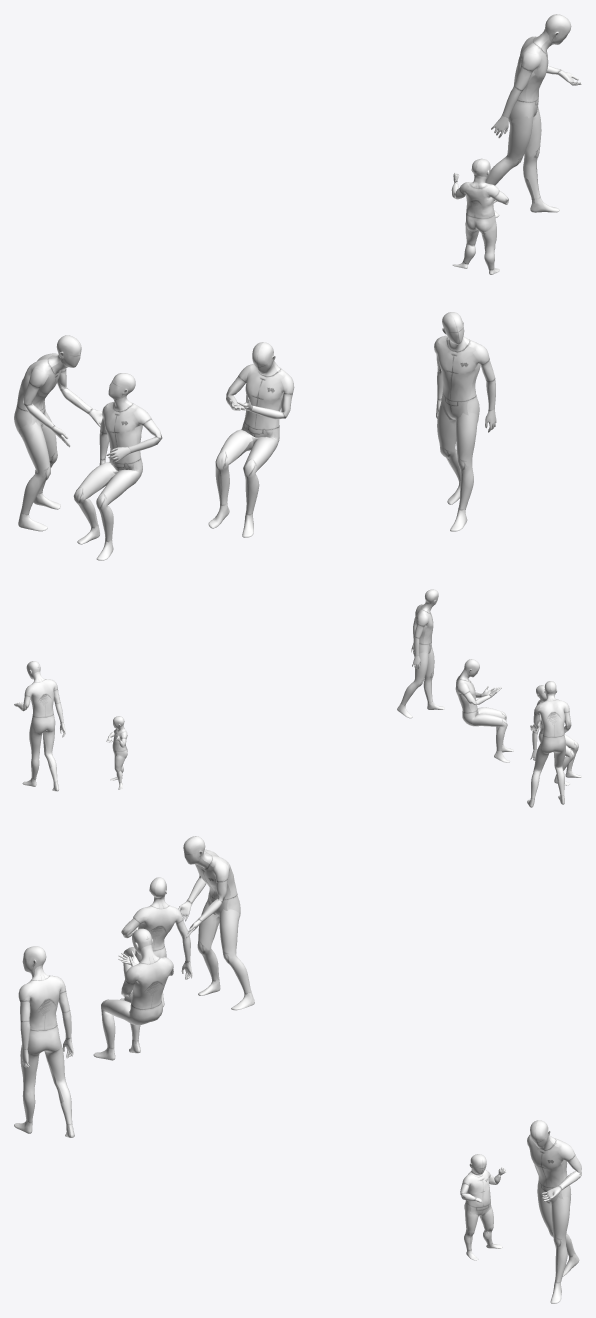
The model's file is GeoGroupMeshSeparateWithoutGround.fbx.
3 views of the same model, one above another, from view 1: azimuth 30°, elevation 25°; view 2: azimuth 150°, elevation 25°; view 3: azimuth 270°, elevation 25° (orthographic). The views are drawn at different scales.
Parts seen in each view (by area): view 1: adult-male_LOD1.007, adult-male_LOD1.005, adult-male_LOD1.008, adult-male_LOD1.006, adult-male_LOD2, baby-LOD2; view 2: adult-male_LOD2, adult-male_LOD1.006, adult-male_LOD1.007, adult-male_LOD1.005, adult-male_LOD1.008, baby-LOD2; view 3: adult-male_LOD1.007, adult-male_LOD1.006, adult-male_LOD2, adult-male_LOD1.005, adult-male_LOD1.008, baby-LOD2.
Part boxes in pixels (<box>): adult-male_LOD1.007: <box>434,312,496,531</box>; adult-male_LOD1.005: <box>208,342,294,537</box>; adult-male_LOD1.008: <box>73,373,162,560</box>; adult-male_LOD1.006: <box>14,335,102,531</box>; adult-male_LOD2: <box>485,14,581,217</box>; baby-LOD2: <box>451,158,508,274</box>; adult-male_LOD2: <box>14,661,65,791</box>; adult-male_LOD1.006: <box>527,681,571,807</box>; adult-male_LOD1.007: <box>397,589,444,718</box>; adult-male_LOD1.005: <box>455,659,513,762</box>; adult-male_LOD1.008: <box>530,685,581,785</box>; baby-LOD2: <box>106,716,127,789</box>; adult-male_LOD1.007: <box>14,946,74,1137</box>; adult-male_LOD1.006: <box>178,836,254,1010</box>; adult-male_LOD2: <box>527,1120,581,1303</box>; adult-male_LOD1.005: <box>93,928,173,1060</box>; adult-male_LOD1.008: <box>120,877,192,1006</box>; baby-LOD2: <box>460,1154,505,1260</box>.
Bounding box in the file's own units: 638 × 172 × 475.
